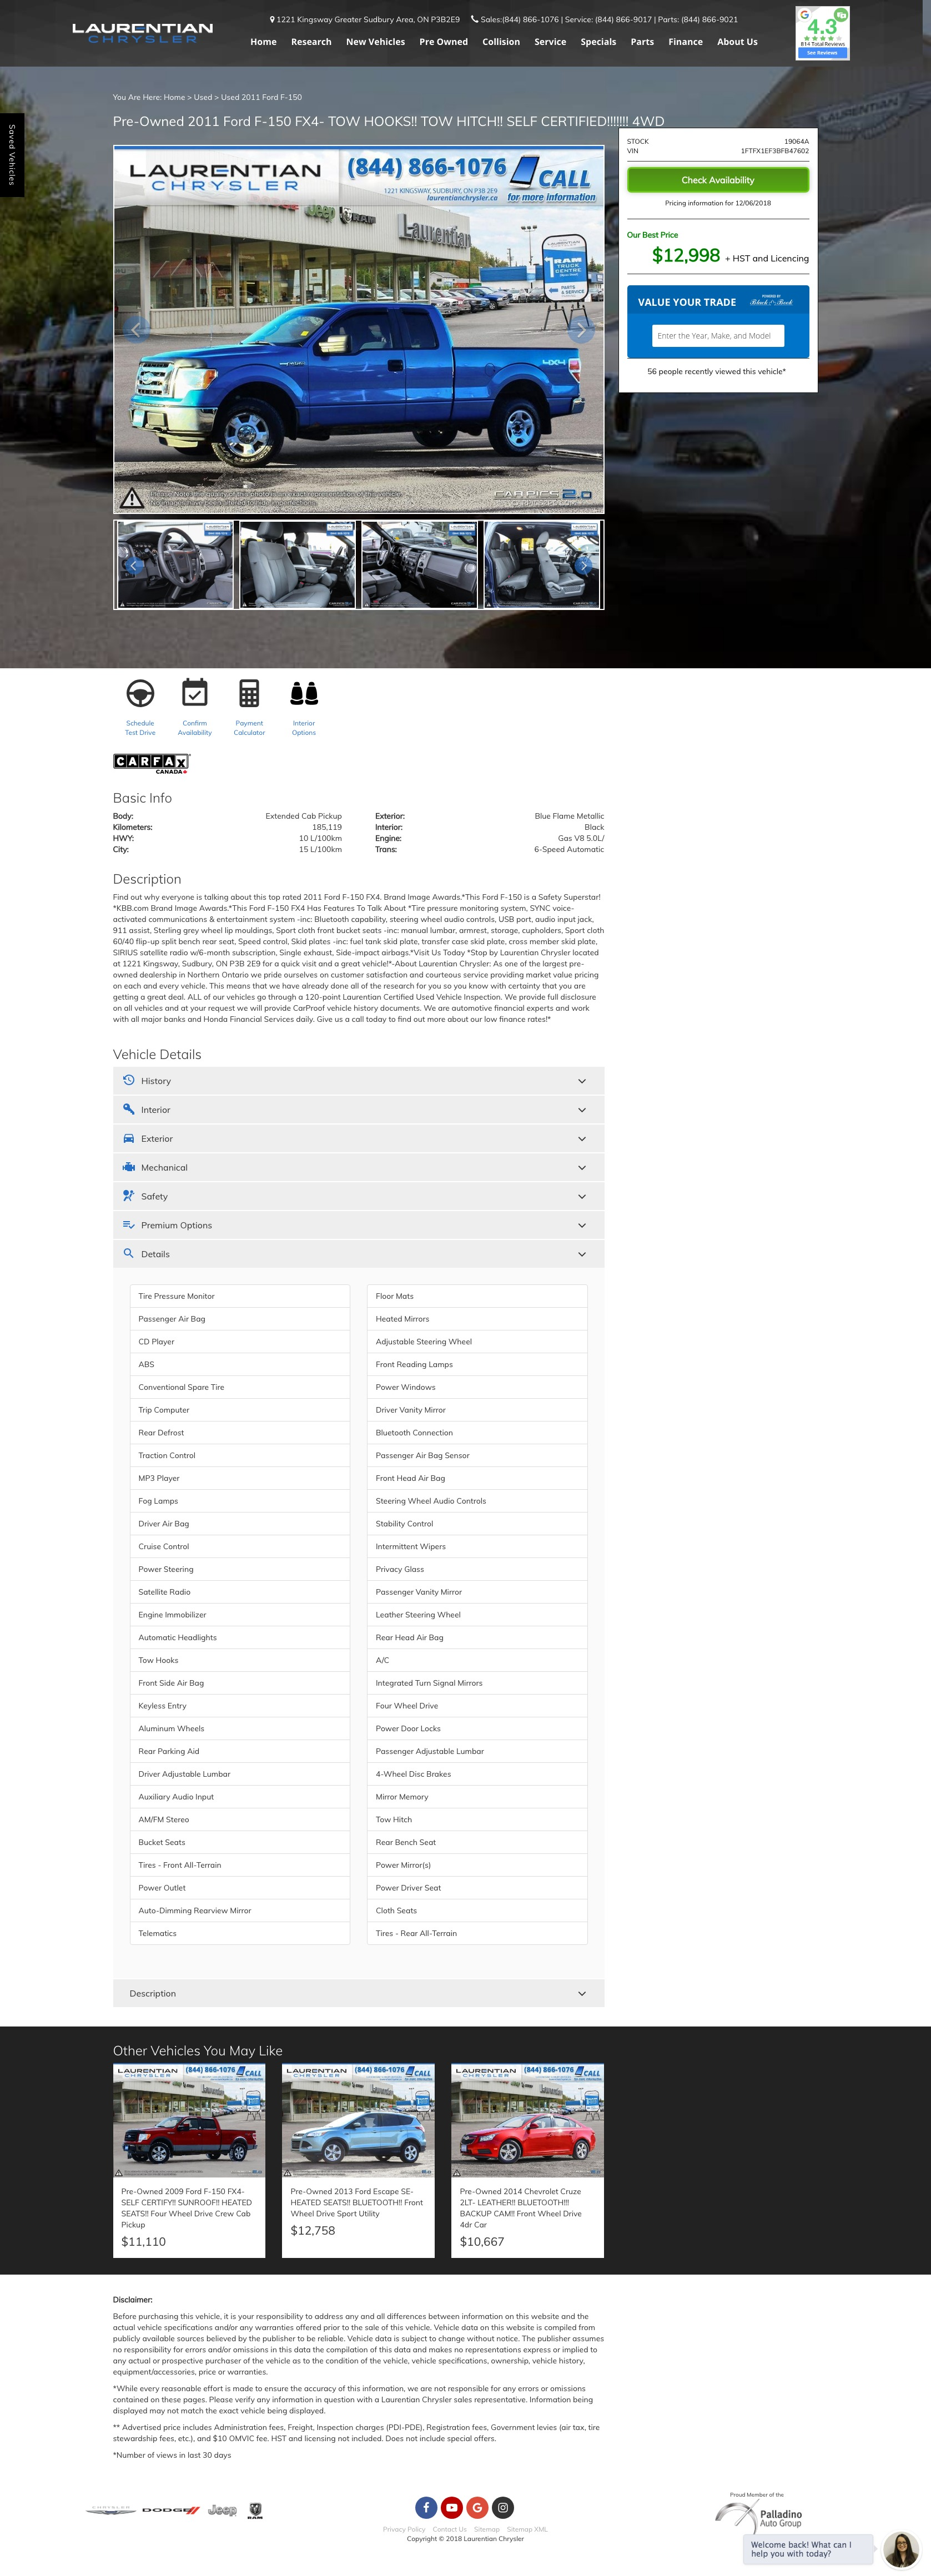car: (566, 315, 596, 345)
